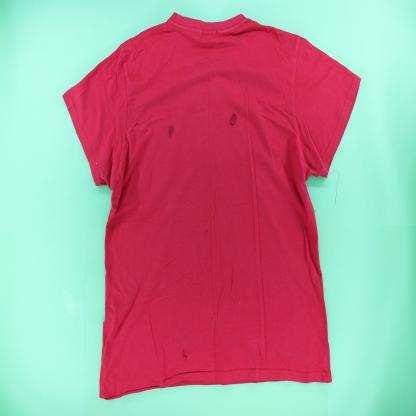stain: (229, 112, 238, 127), (167, 124, 175, 140)
